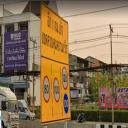speed_limit_100: (52, 76, 61, 104)
speed_limit_120: (62, 66, 68, 90)
speed_limit_80: (42, 74, 51, 105)
